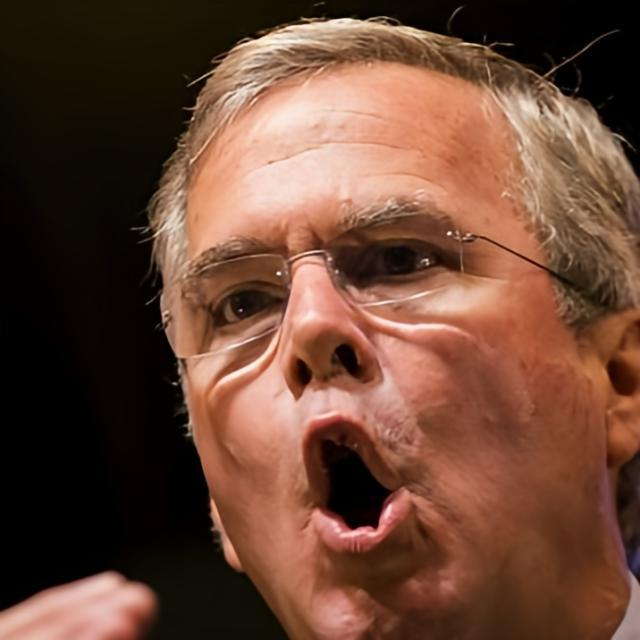anger: (181, 71, 570, 640)
